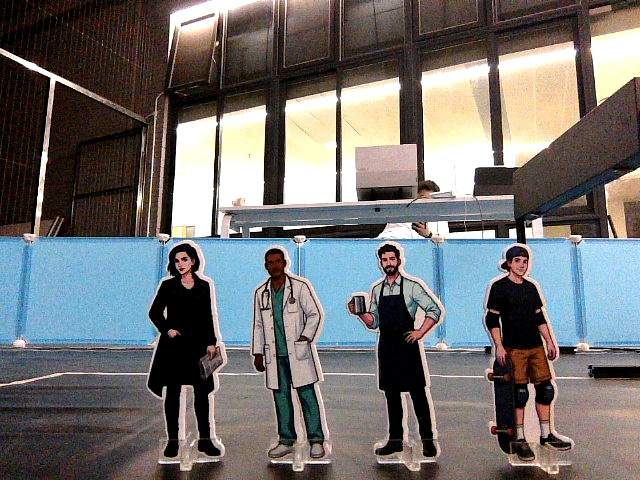community_person: (344, 235, 452, 474), (139, 232, 233, 475), (477, 236, 570, 474), (245, 237, 334, 473)
